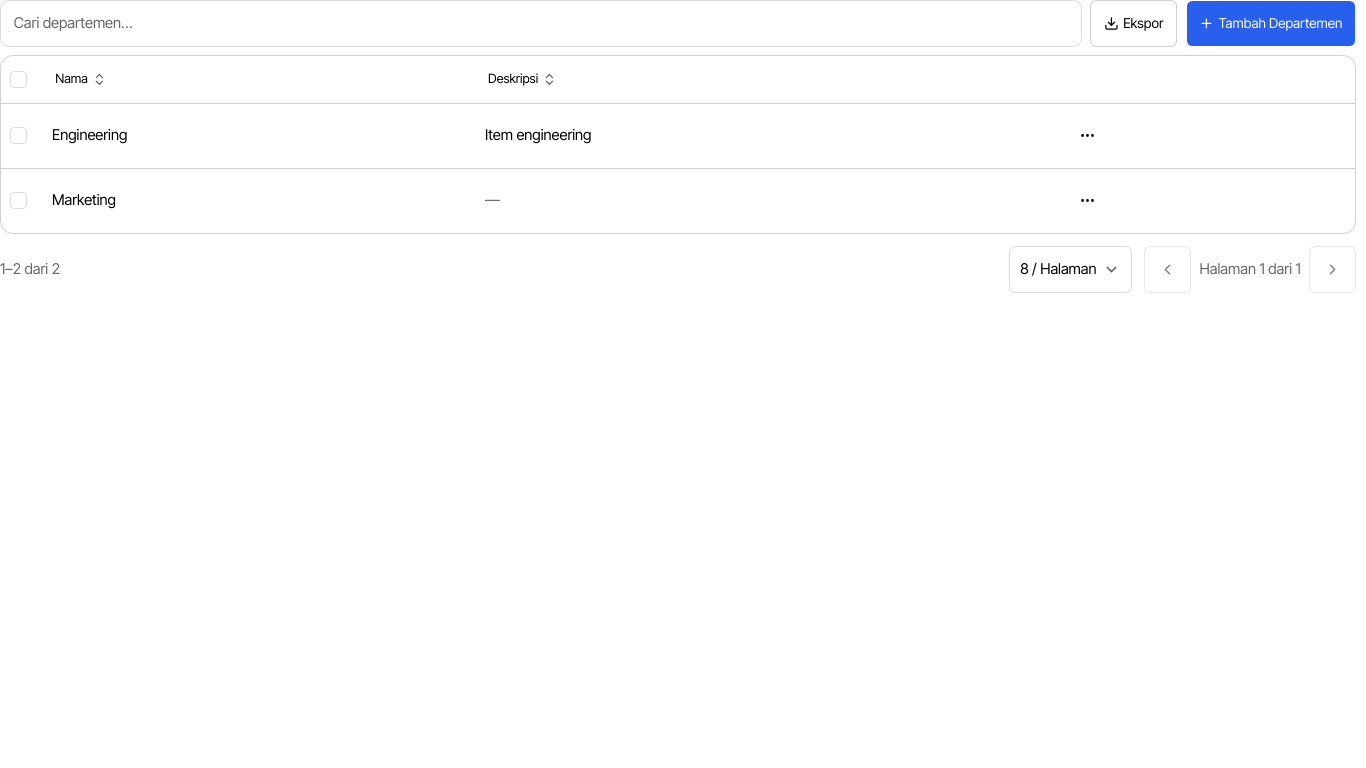
Test: DepartmentsSection remainder › opens the create dialog from the add button
expect the text "Engineering" is shown: met, box [52, 126, 127, 144]
Click the button "Tambah Departemen": (1271, 23) [1186, 0, 1356, 47]
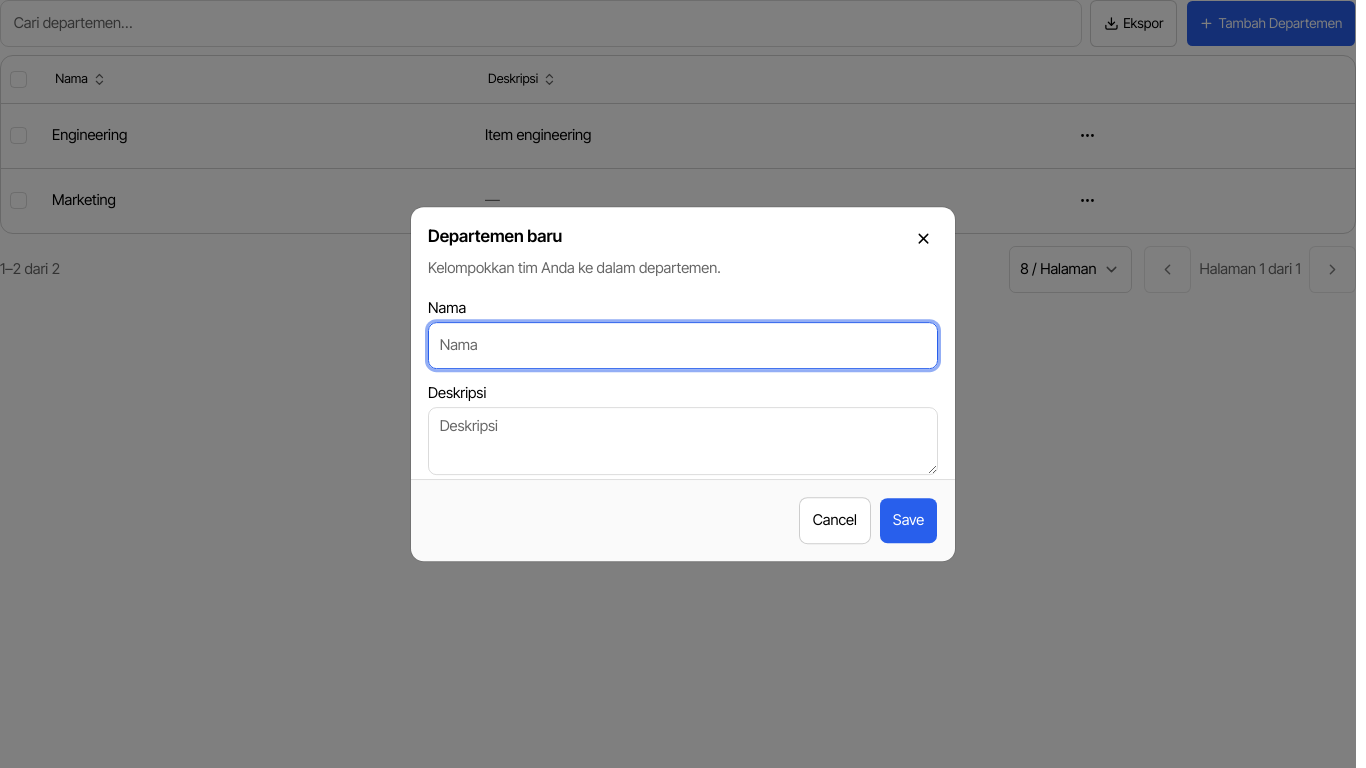
expect the dialog is shown: met, box [411, 207, 955, 561]
